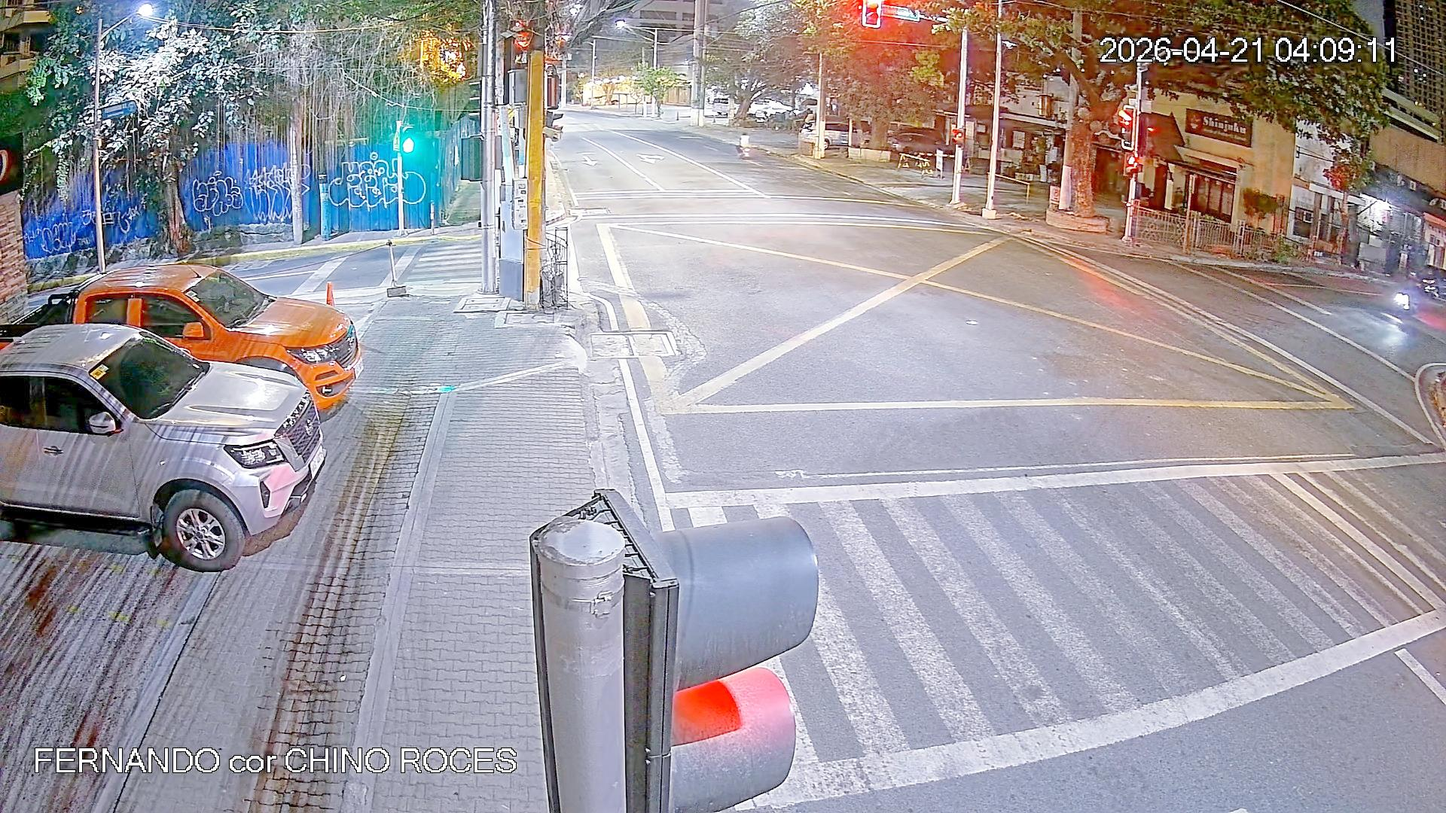Car: (5, 323, 337, 579), (60, 259, 363, 423), (807, 119, 870, 161), (705, 89, 761, 125)
